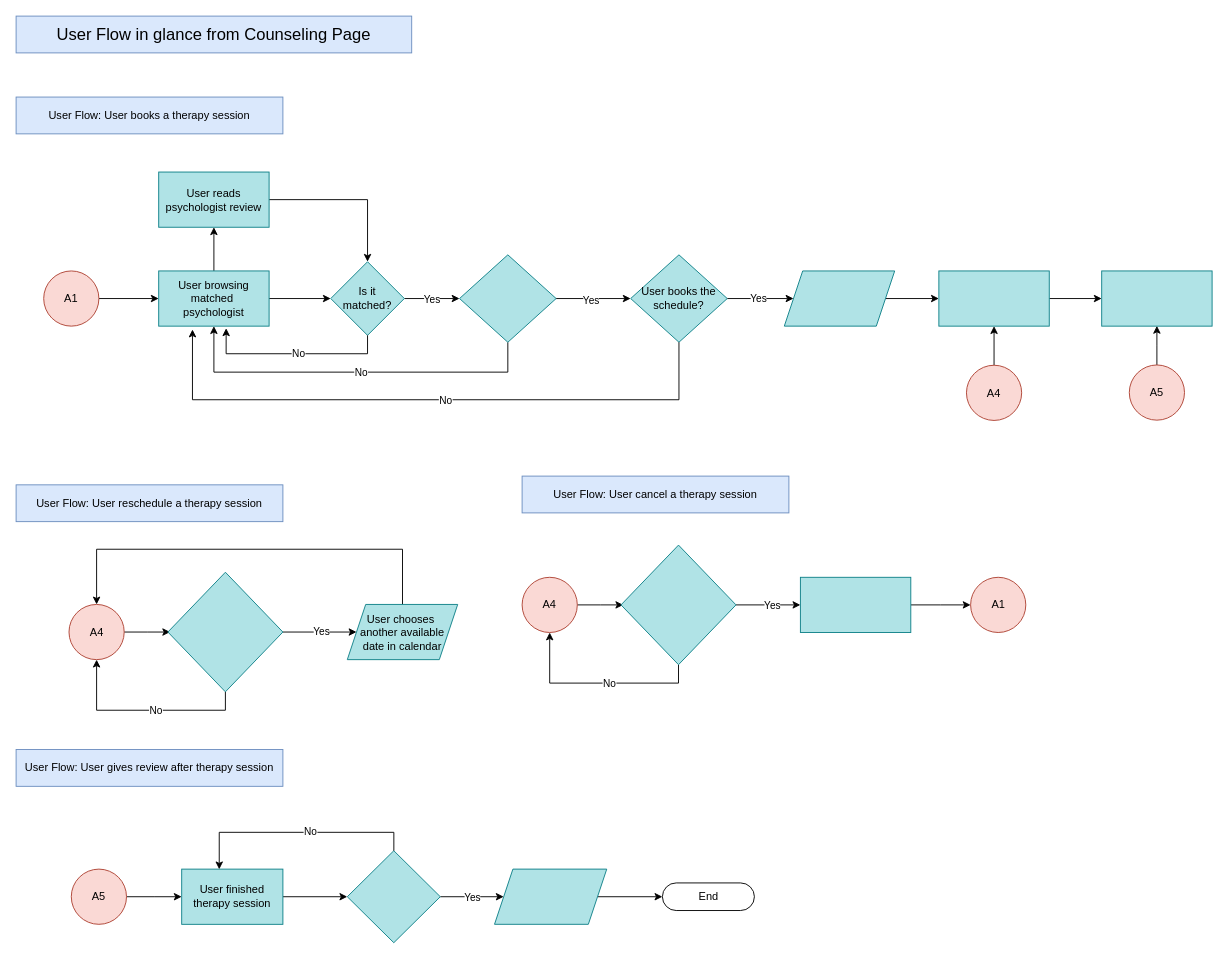
Image size: 1228x960. Some labels were removed from this diagram. The shapes that lost their labels are listed below. From the top down, each one's centre as x and y in pixels, then its label:
(x=507, y=298): Does the psychologist available?
(x=839, y=298): User click "Book Now" Button
(x=993, y=298): User has scheduled therapy session with matched psychologist
(x=1156, y=298): User doing therapy session
(x=678, y=604): Is user canceling a booked therapy session?
(x=855, y=604): User has no booked therapy session
(x=225, y=631): Is user reschedule a booked therapy session?
(x=393, y=896): User gives therapy review?
(x=550, y=896): User click "Create Review" Button
